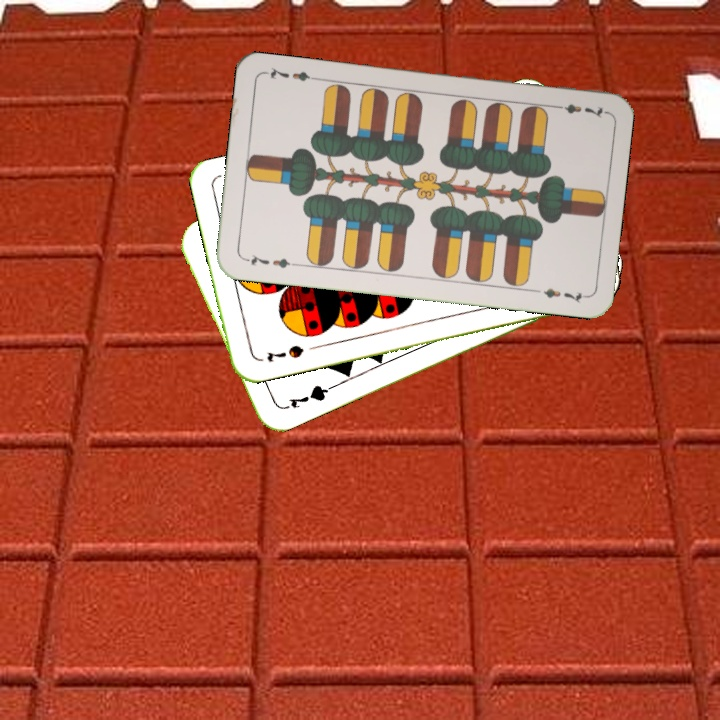E7: (549, 99, 608, 121), (240, 250, 299, 271)
G7: (285, 380, 333, 411)
S7: (262, 341, 306, 365)
